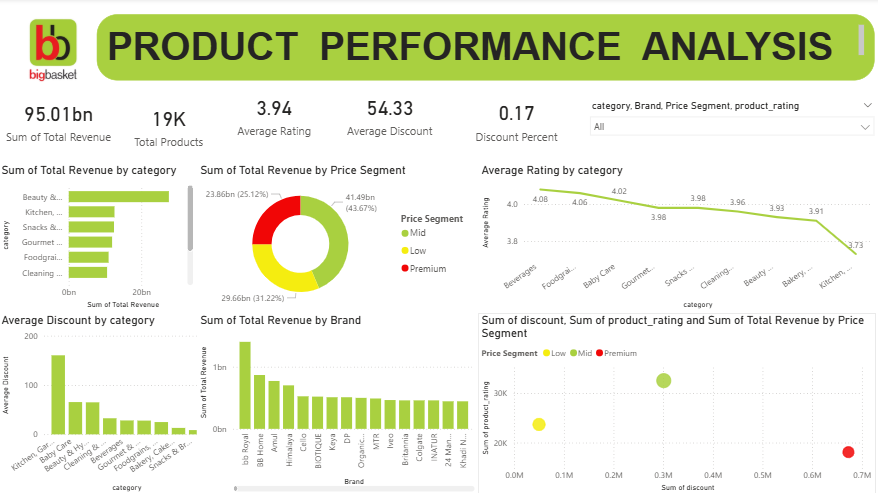

This screenshot's page, from the dashboard's own definition file:
{"tool":"powerbi","page":{"name":"BigBasket Product Performance","canvas":[1280,720],"ordinal":0},"visuals":[{"type":"card","fields":{"Values":["public products.Total Products"]},"box":[176,128,144,112],"z":0},{"type":"card","fields":{"Values":["public products.Average Rating"]},"box":[320,96,160,144],"z":1000},{"type":"card","fields":{"Values":["public products.Average Discount"]},"box":[480,96,176,144],"z":2000},{"type":"card","fields":{"Values":["public products.Discount Percent"]},"box":[656,112,192,128],"z":3000},{"type":"barChart","fields":{"Category":["public products.category"],"Y":["Sum(public products.Total Revenue)"]},"box":[0,240,288,216],"z":4000},{"type":"card","fields":{"Values":["Sum(public products.Total Revenue)"]},"box":[0,128,176,96],"z":5000},{"type":"donutChart","fields":{"Y":["Sum(public products.Total Revenue)"],"Category":["public products.Price Segment"]},"box":[288,240,408,216],"z":6000},{"type":"scatterChart","fields":{"X":["Sum(public products.discount)"],"Y":["Sum(public products.product_rating)"],"Size":["Sum(public products.Total Revenue)"],"Series":["public products.Price Segment"]},"box":[696,456,576,264],"z":7000},{"type":"columnChart","fields":{"Category":["public products.category"],"Y":["public products.Average Discount"]},"box":[0,456,312,264],"z":8000},{"type":"columnChart","fields":{"Category":["public products.brand"],"Y":["Sum(public products.Total Revenue)"]},"box":[288,456,408,264],"z":9000},{"type":"slicer","fields":{"Values":["public products.category","public products.brand","public products.Price Segment","public products.product_rating"]},"box":[848,144,432,80],"z":10000},{"type":"lineChart","fields":{"Category":["public products.category"],"Y":["public products.Average Rating"]},"box":[696,240,576,216],"z":11000},{"type":"textbox","box":[144,24,1128,96],"z":12000},{"type":"image","box":[0,24,160,104],"z":13000}]}

Visuals, with their boxes in screenshot pixels (x1, y1, x2, y2), scaled from the page's 1280x720 canvas onto the 878x493 screenshot:
card - public products.Total Products: box=[121, 88, 220, 164]
card - public products.Average Rating: box=[220, 66, 329, 164]
card - public products.Average Discount: box=[329, 66, 450, 164]
card - public products.Discount Percent: box=[450, 77, 582, 164]
barChart - public products.category x Sum(public products.Total Revenue): box=[0, 164, 198, 312]
card - Sum(public products.Total Revenue): box=[0, 88, 121, 153]
donutChart - Sum(public products.Total Revenue) x public products.Price Segment: box=[198, 164, 477, 312]
scatterChart - Sum(public products.discount) x Sum(public products.product_rating): box=[477, 312, 873, 492]
columnChart - public products.category x public products.Average Discount: box=[0, 312, 214, 492]
columnChart - public products.brand x Sum(public products.Total Revenue): box=[198, 312, 477, 492]
slicer - public products.category x public products.brand: box=[582, 99, 877, 153]
lineChart - public products.category x public products.Average Rating: box=[477, 164, 873, 312]
textbox: box=[99, 16, 873, 82]
image: box=[0, 16, 110, 88]
